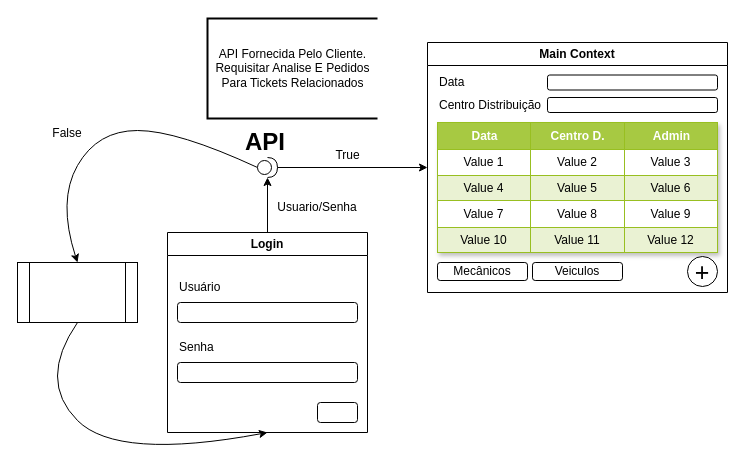
Some shapes in this 745 by 462 pixel diagram are drawn without their labels. Each missing label, with the centre of its shape:
"Entrar" belongs at [337,412].
"Informação de login incorreta, tente novamente" belongs at [77,292].
